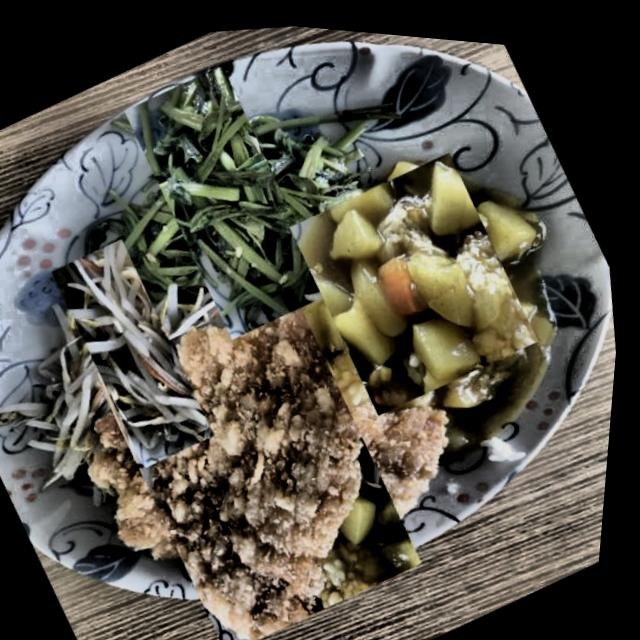Food: (60, 257, 472, 640), (267, 124, 569, 428), (88, 55, 371, 340), (23, 234, 254, 466)
